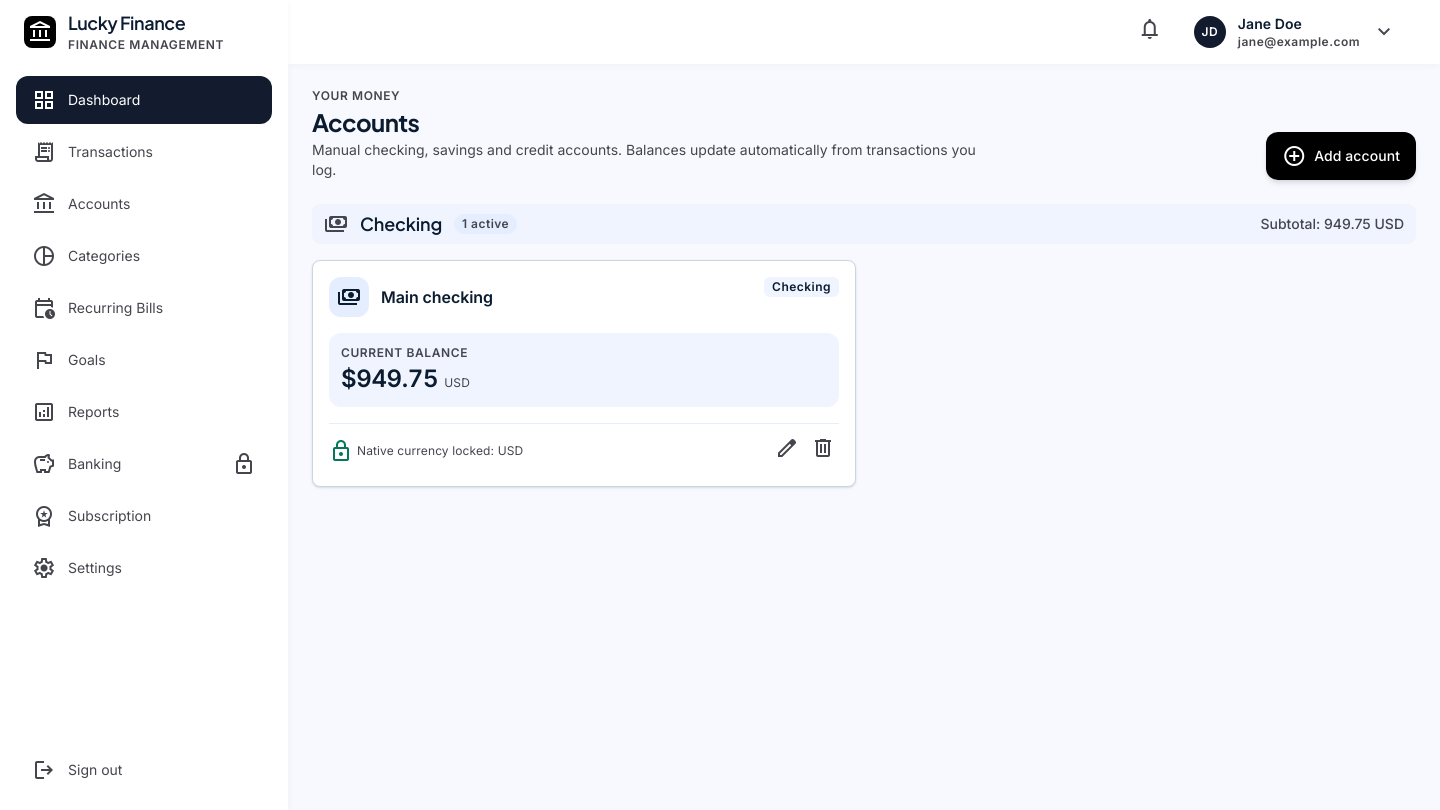
AccountsPage › deletes an account only after explicit confirmation
The width and height of the screenshot is (1440, 810).
Expected: the heading "Main checking" is shown, [381, 285, 493, 309]
Step 1. Click the button titled "Delete" → [823, 451], box [807, 432, 839, 470]
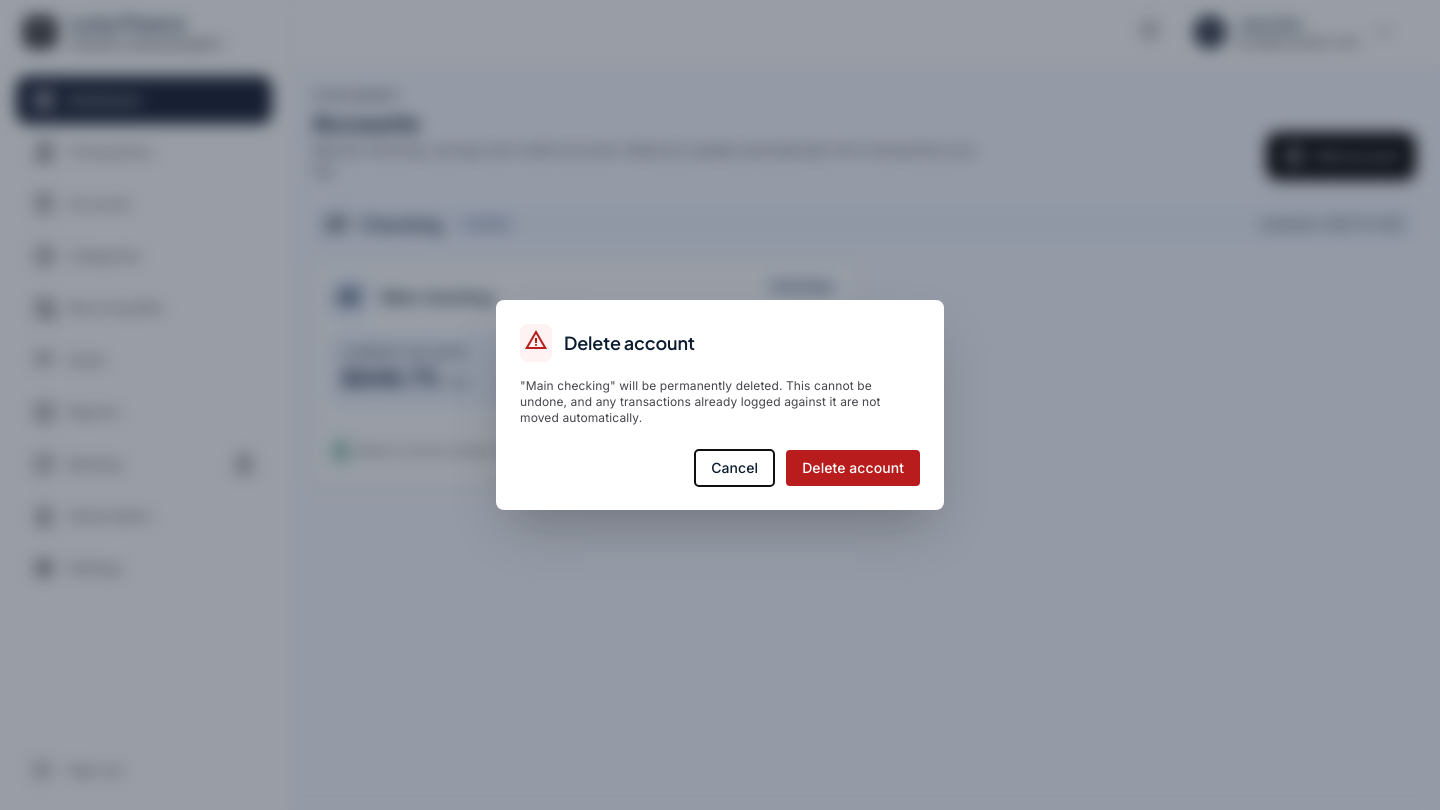
Expected: the text "Main checking" is shown, [520, 378, 881, 425]
Step 2. Click the button "Cancel" → [735, 468], box [695, 450, 774, 486]
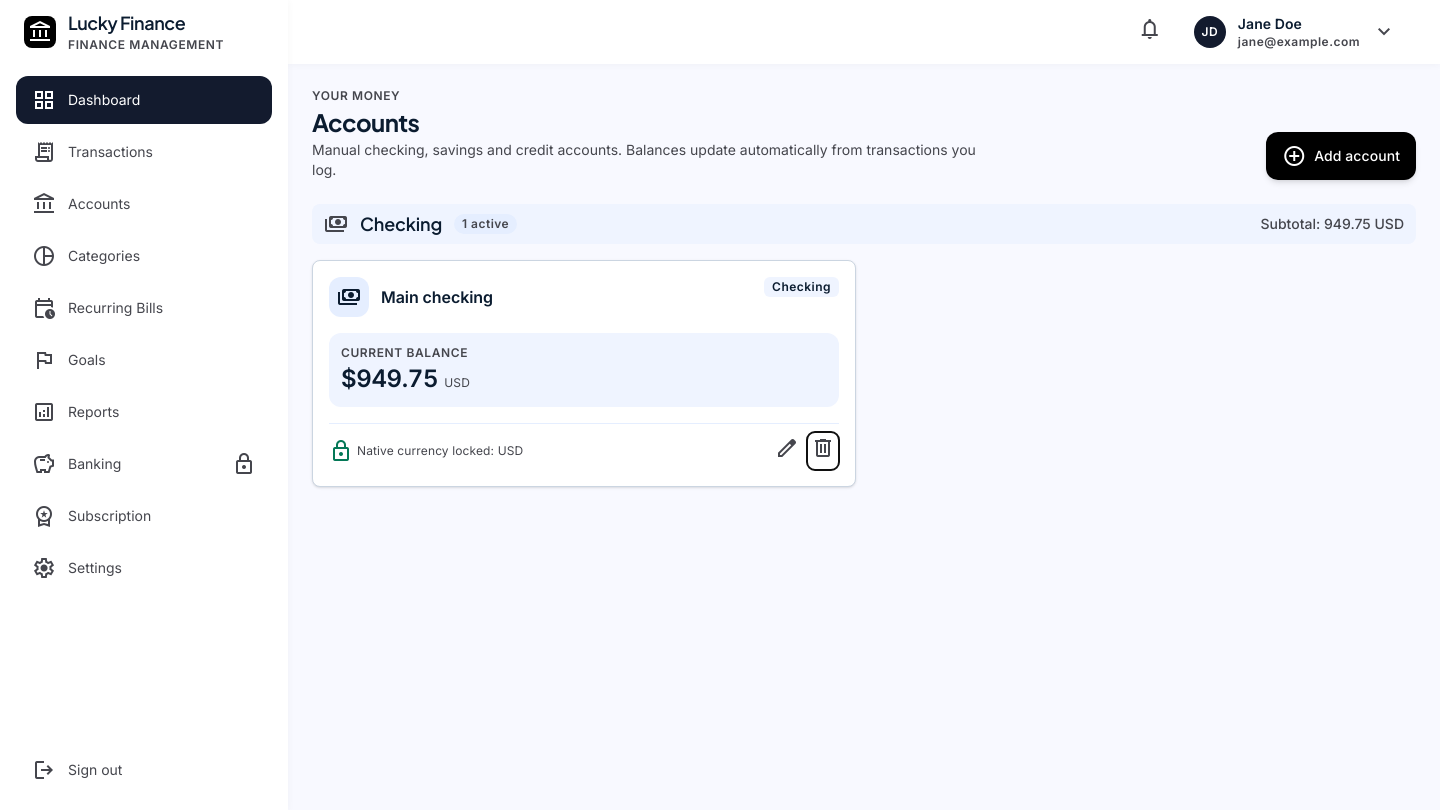
Expected: the heading "Main checking" is shown, [381, 285, 493, 309]
Step 3. Click the button titled "Delete" → [823, 451], box [807, 432, 839, 470]
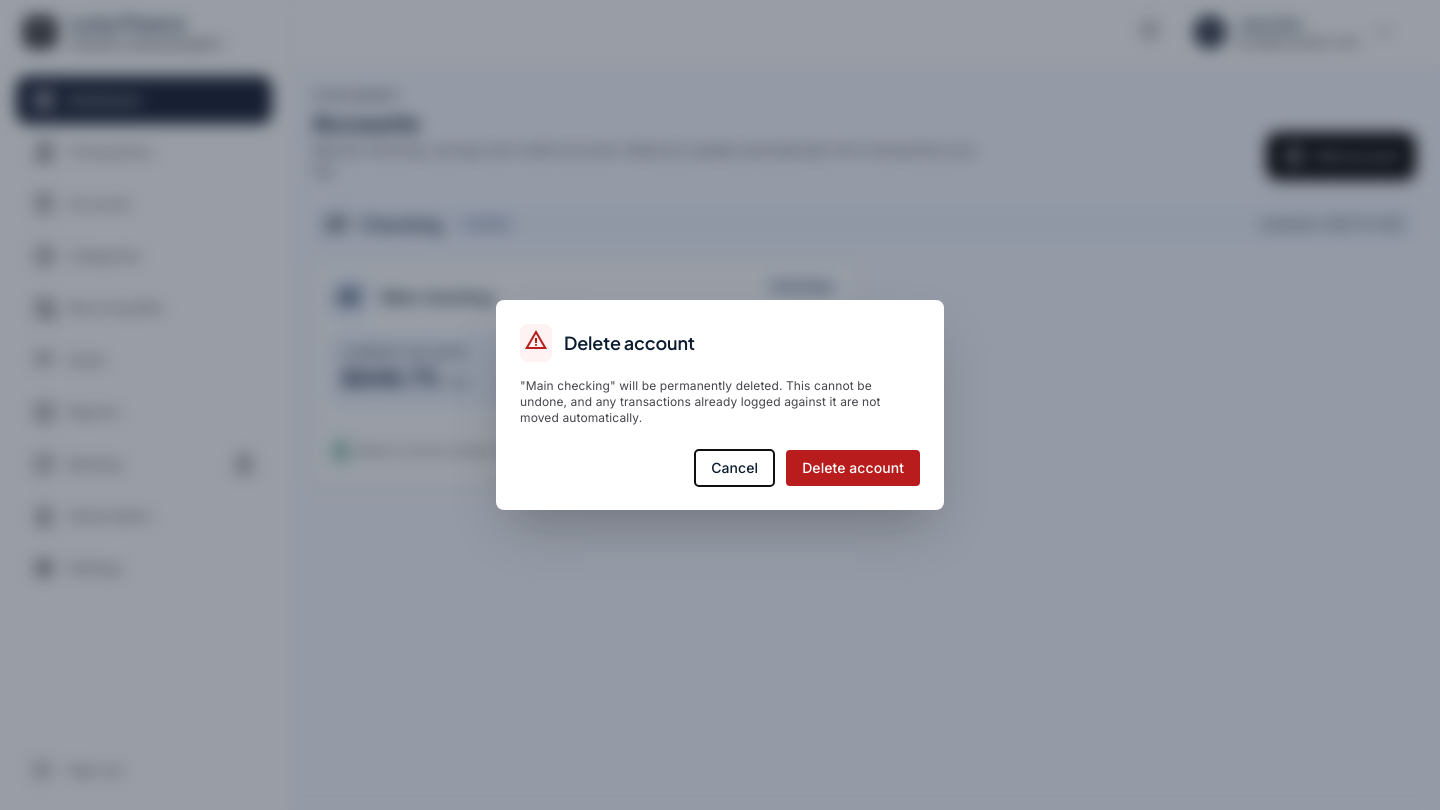
Step 4. Click the button "Delete account" → [853, 468], box [786, 450, 920, 486]
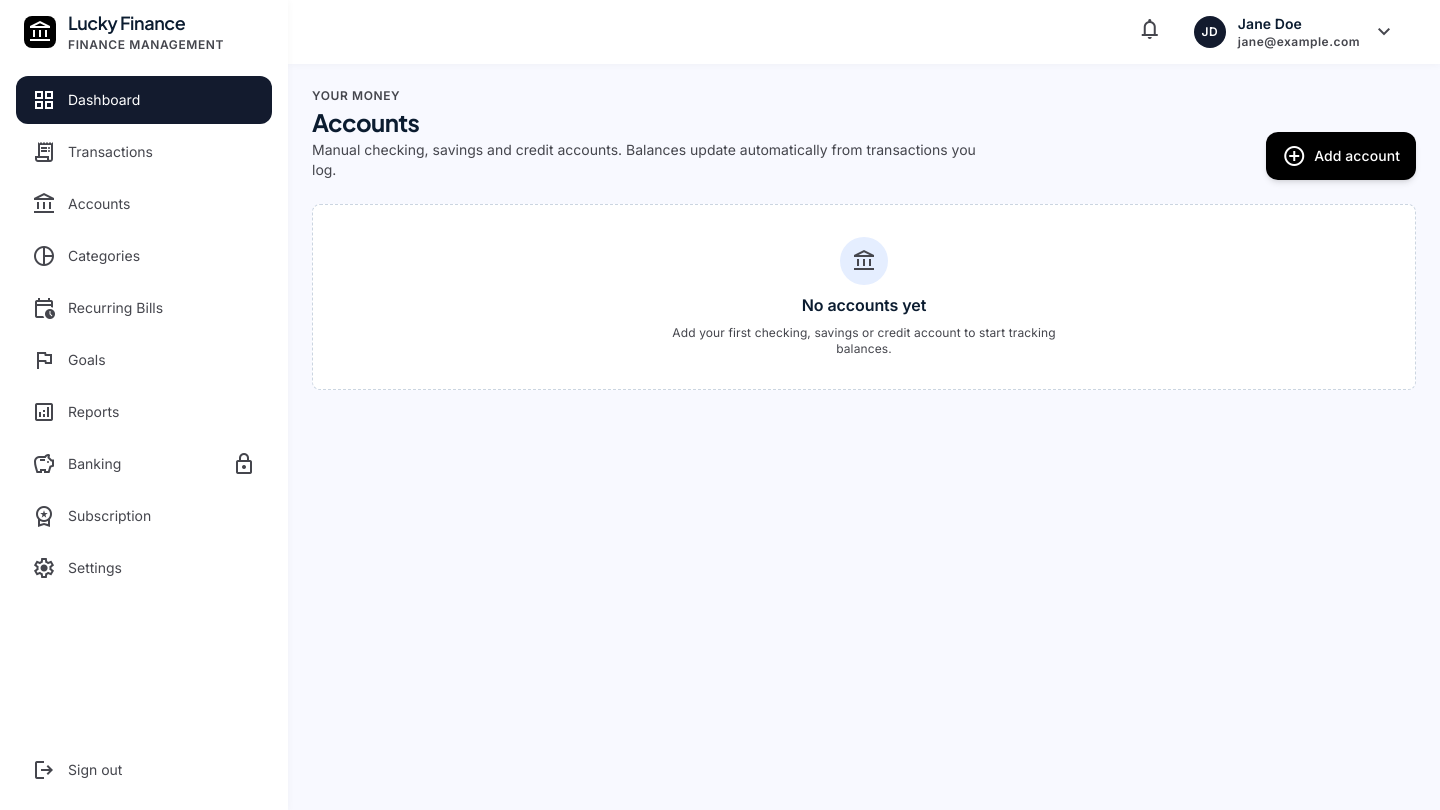
Expected: the text "No accounts yet" is shown, [802, 293, 926, 317]
